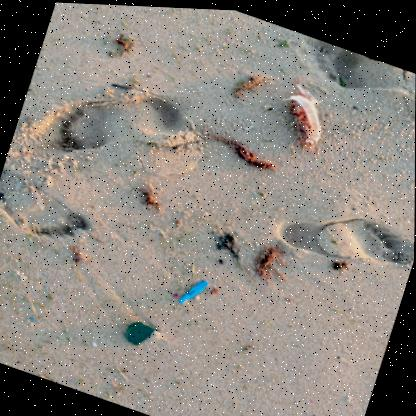Plastic: (280, 80, 320, 140), (178, 277, 208, 301), (125, 319, 155, 343)
